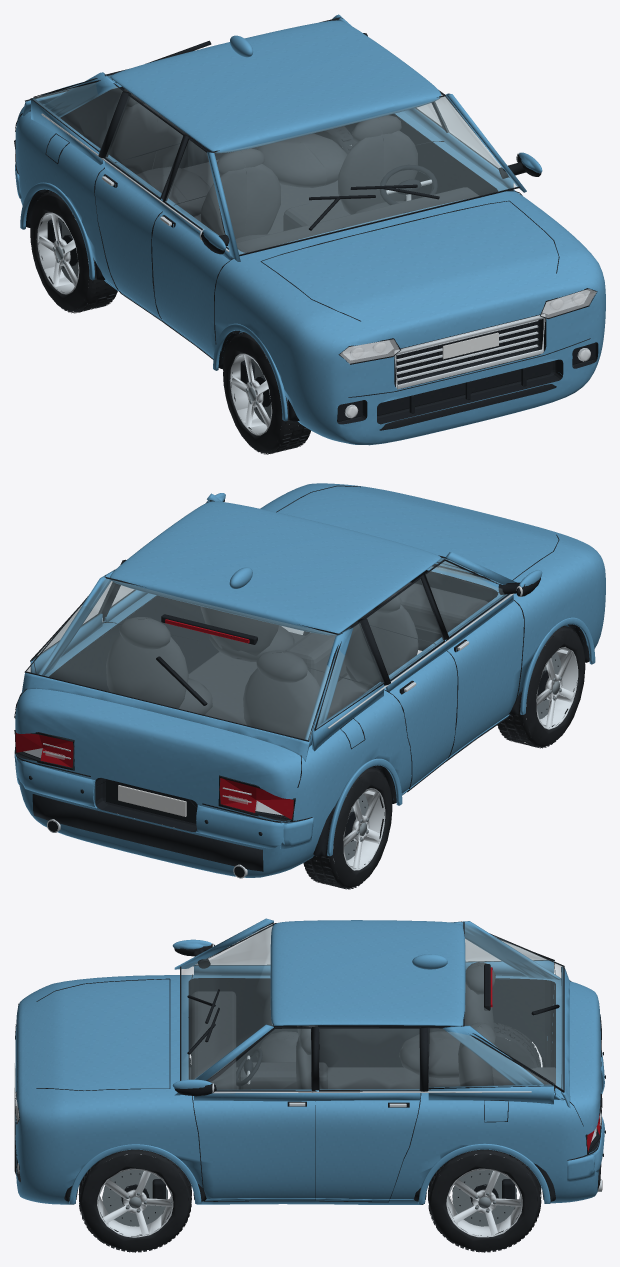
File: medium.glb
The picture shows the model from 3 angles, top to bottom: view 1: azimuth 30°, elevation 25°; view 2: azimuth 150°, elevation 25°; view 3: azimuth 270°, elevation 25°; orthographic projection. The views are drawn at different scales.
Visible parts, largest first — view 1: Body:paint, Body:glass, Body:interior, Body:black, Body:chrome, Wheel0:rubber, Wheel2:rubber, Wheel0:chrome, Wheel2:chrome, Body:frontlamp, Body:white; view 2: Body:paint, Body:glass, Body:interior, Body:black, Wheel2:rubber, Wheel0:rubber, Body:redlens, Wheel0:chrome, Wheel2:chrome, Body:chrome, Body:white; view 3: Body:paint, Body:glass, Body:black, Body:interior, Wheel1:rubber, Wheel3:rubber, Wheel3:chrome, Wheel1:chrome, Wheel1:steel, Wheel3:steel, Wheel2:rubber, Body:chrome.
Boxes of the visible parts, bbox=[...] form: Body:paint: bbox=[15, 14, 605, 445]; Body:glass: bbox=[26, 20, 518, 254]; Body:interior: bbox=[109, 88, 478, 252]; Body:black: bbox=[14, 17, 598, 430]; Body:chrome: bbox=[41, 113, 590, 417]; Wheel0:rubber: bbox=[223, 332, 310, 454]; Wheel2:rubber: bbox=[30, 191, 117, 313]; Wheel0:chrome: bbox=[230, 353, 298, 435]; Wheel2:chrome: bbox=[37, 212, 88, 294]; Body:frontlamp: bbox=[340, 289, 596, 363]; Body:white: bbox=[442, 332, 498, 359]; Body:paint: bbox=[14, 483, 605, 877]; Body:glass: bbox=[26, 558, 506, 740]; Body:interior: bbox=[106, 582, 488, 738]; Body:black: bbox=[14, 485, 589, 877]; Wheel2:rubber: bbox=[303, 767, 392, 889]; Wheel0:rubber: bbox=[497, 625, 585, 748]; Body:redlens: bbox=[15, 733, 293, 819]; Wheel0:chrome: bbox=[509, 645, 578, 729]; Wheel2:chrome: bbox=[316, 788, 385, 870]; Body:chrome: bbox=[23, 586, 522, 878]; Body:white: bbox=[118, 785, 186, 816]; Body:paint: bbox=[15, 918, 604, 1204]; Body:glass: bbox=[181, 924, 562, 1090]; Body:black: bbox=[14, 921, 605, 1205]; Body:interior: bbox=[188, 962, 555, 1176]; Wheel1:rubber: bbox=[78, 1149, 191, 1252]; Wheel3:rubber: bbox=[428, 1149, 541, 1252]; Wheel3:chrome: bbox=[446, 1154, 522, 1237]; Wheel1:chrome: bbox=[97, 1154, 173, 1237]; Wheel1:steel: bbox=[102, 1170, 171, 1226]; Wheel3:steel: bbox=[452, 1170, 520, 1226]; Wheel2:rubber: bbox=[494, 1022, 540, 1068]; Body:chrome: bbox=[15, 943, 601, 1191].
Bounding box in the file's own units: 2.04 × 1.54 × 3.56.
12 materials, 12 textured.
